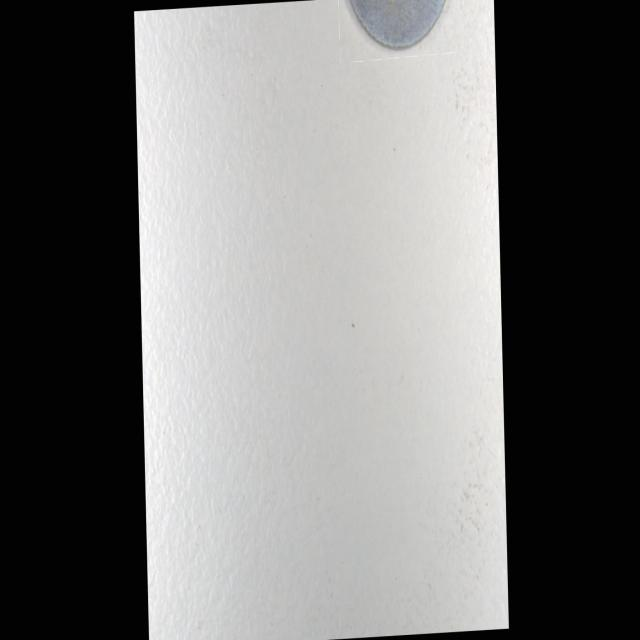washer: (344, 0, 450, 58)
